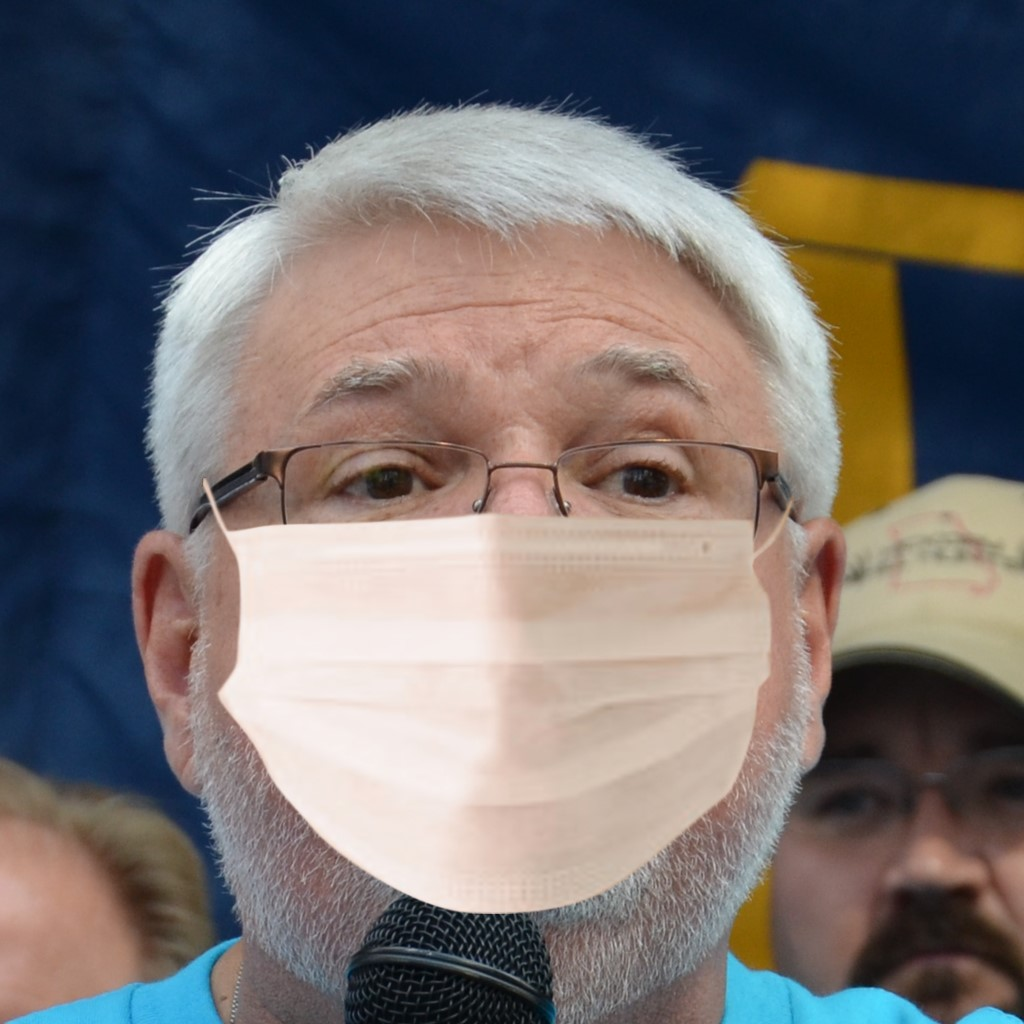con_mascara: (150, 174, 800, 1008)
